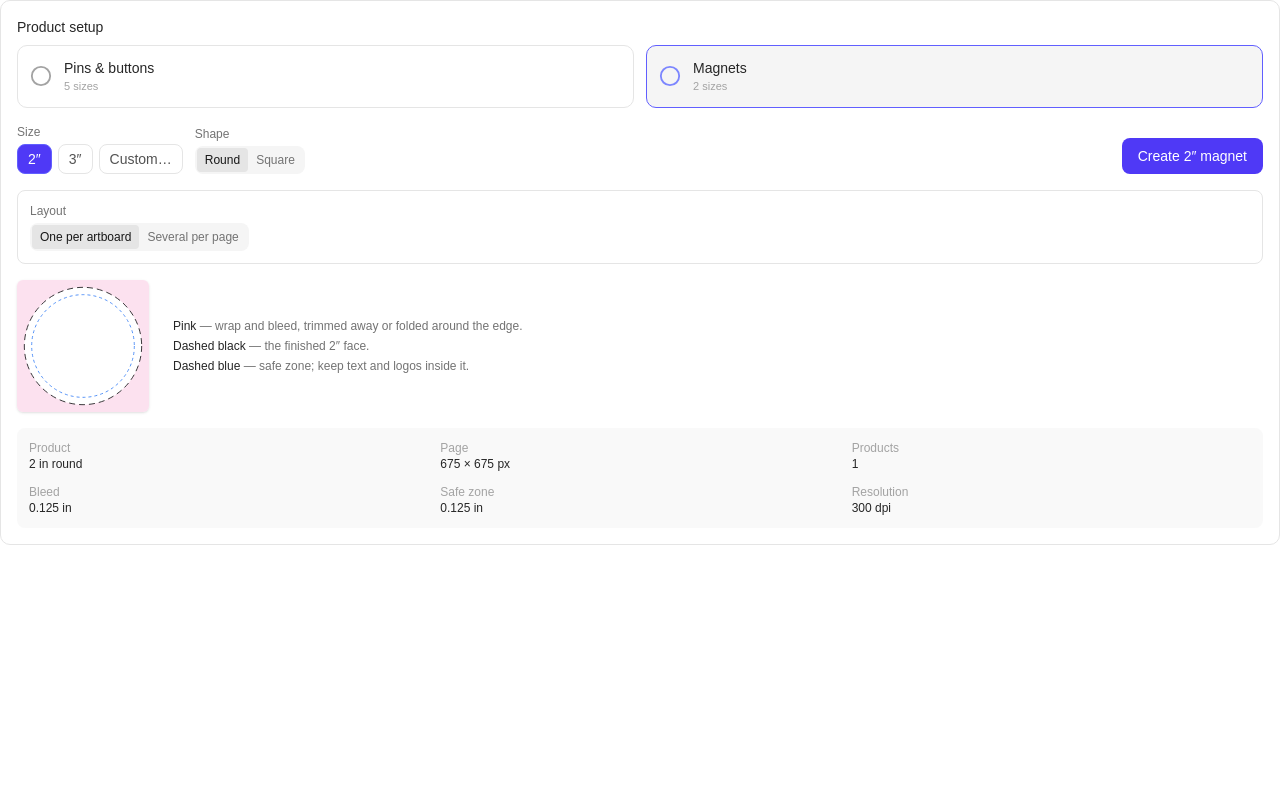
Test: ProductSetupPanel — custom sizes (PROD-001) › goes back to a preset when one is clicked
The image size is (1280, 800).
Step 1. Click the button "Custom…" → coordinates (141, 158), box [98, 144, 183, 174]
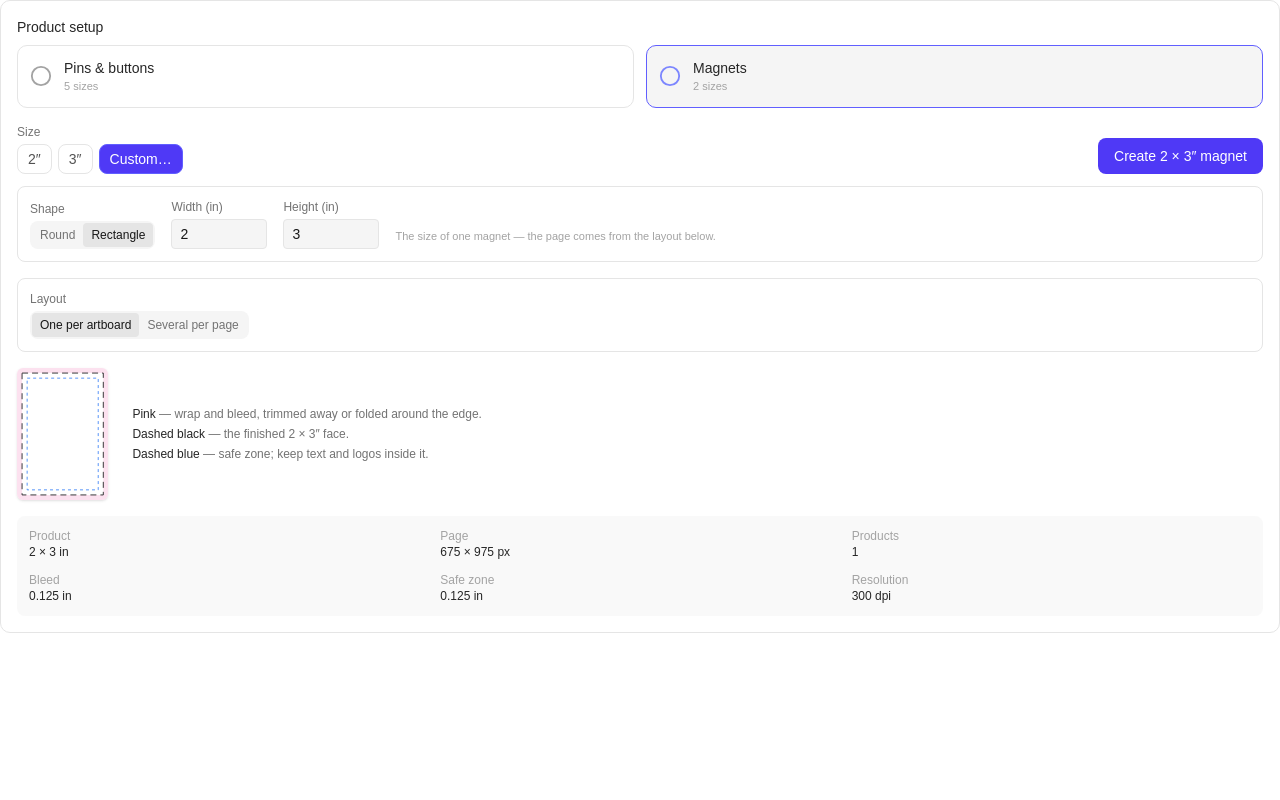
Step 2. Click the button "3″" → coordinates (75, 158), box [58, 144, 93, 174]
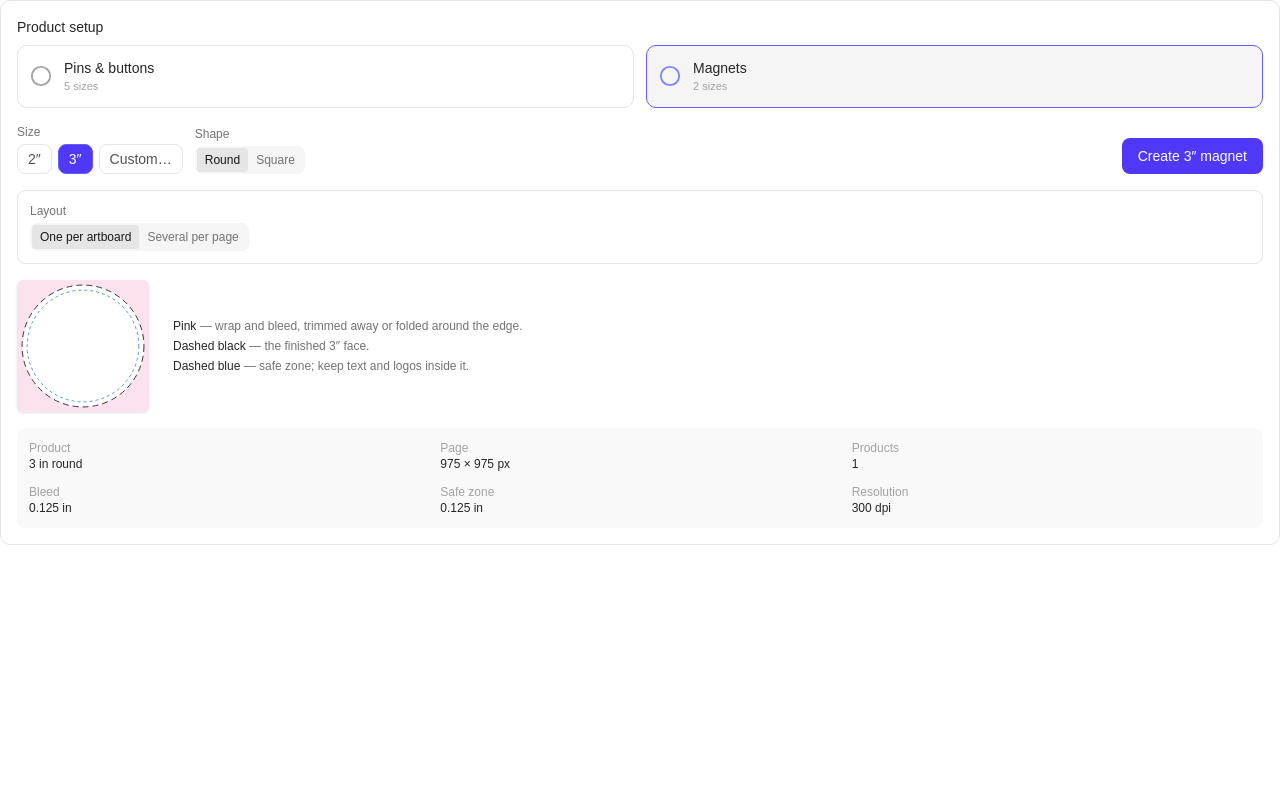
Expected: the label labelled "Width (in)" is gone
Expected: the button "Create 3″ magnet" is shown, [1122, 138, 1263, 174]
